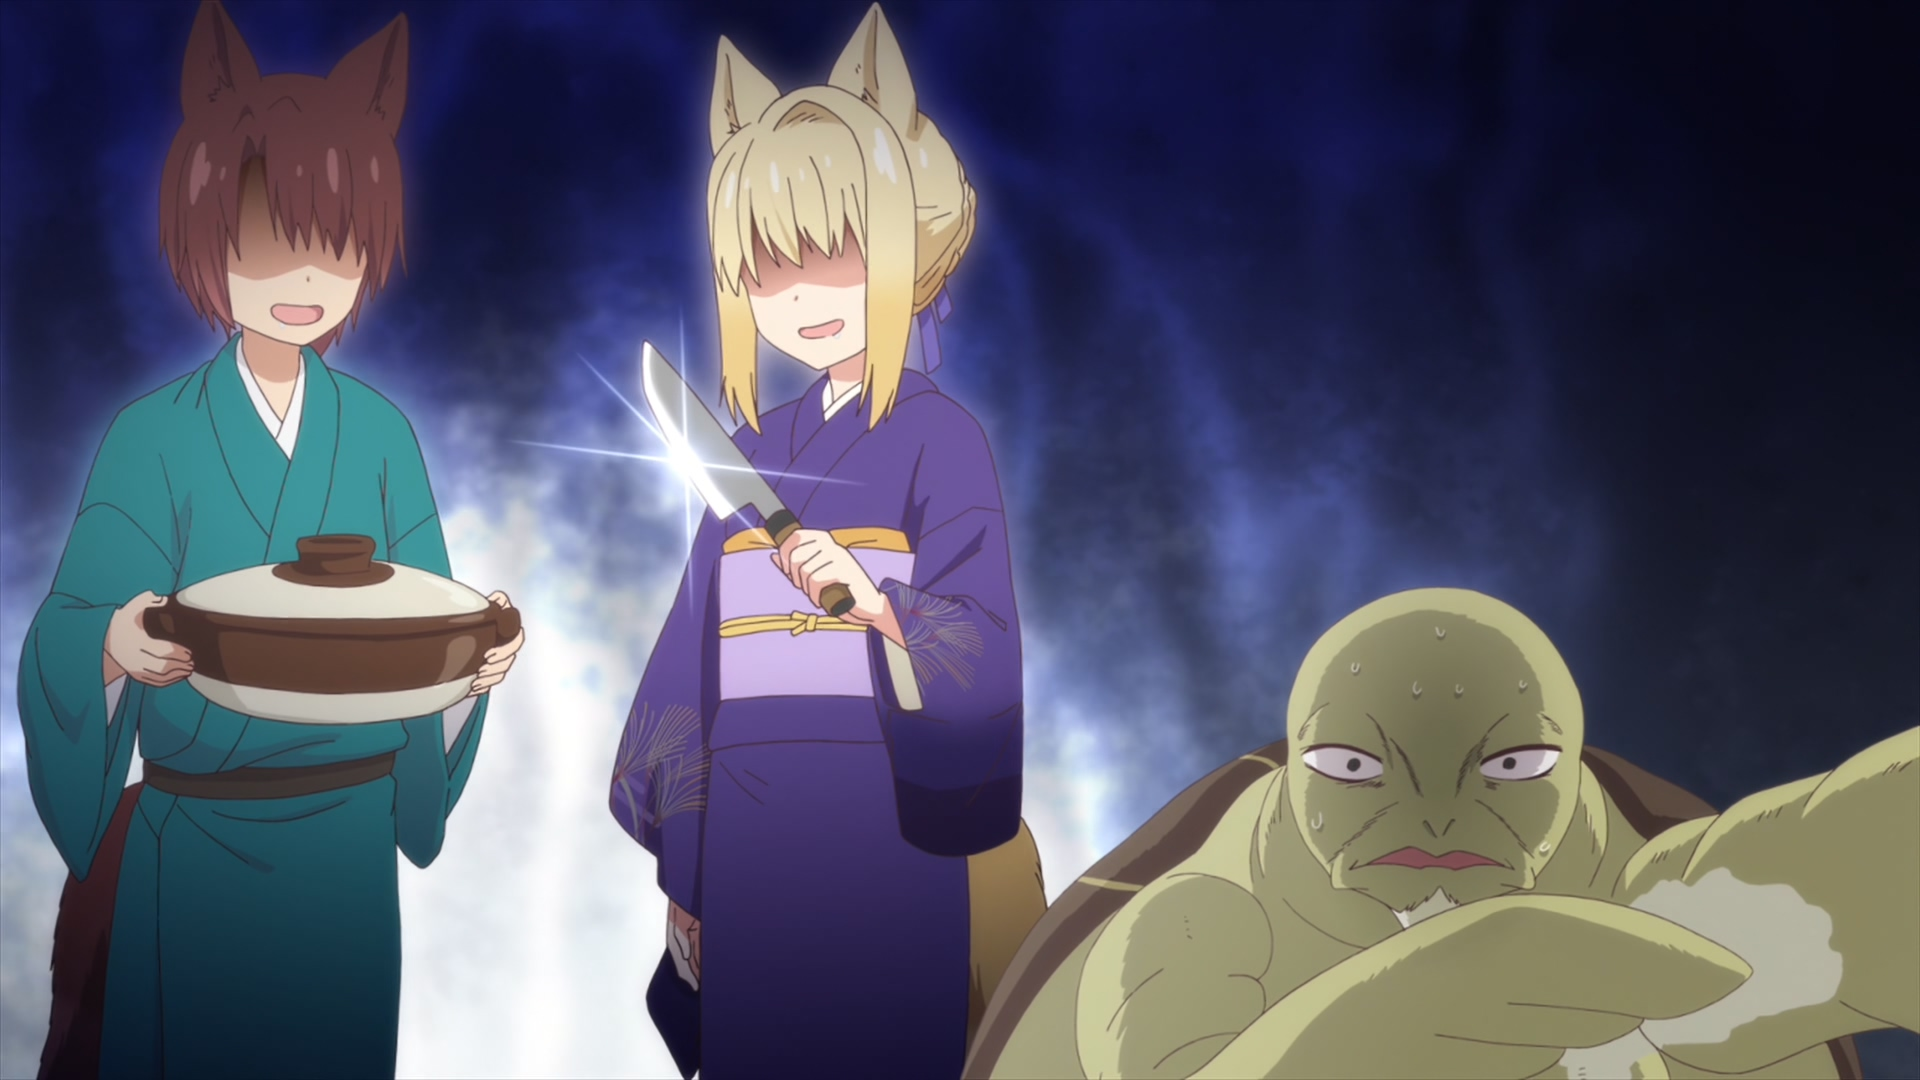其他: (963, 585, 1920, 1080)
枣: (13, 1, 524, 1080)
桐: (609, 1, 1050, 1080)
